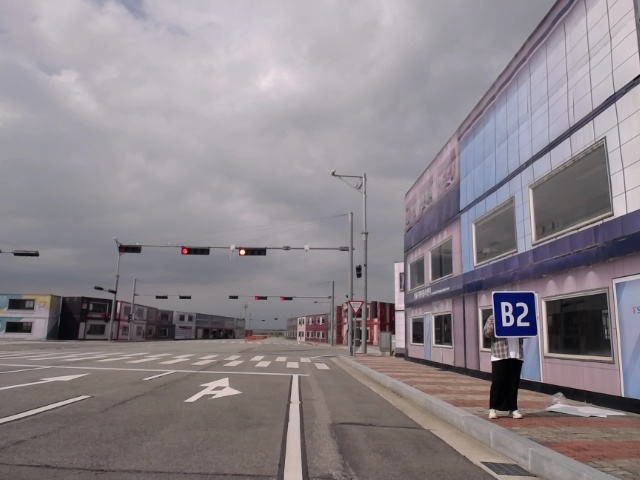delivery_b2: (491, 289, 541, 339)
red_4: (238, 245, 269, 258), (179, 245, 212, 256), (278, 295, 295, 301), (253, 295, 268, 301)
